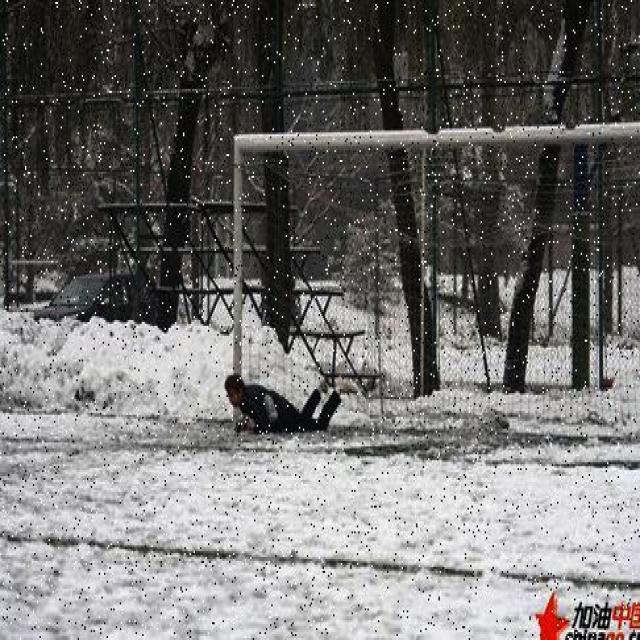fall: (221, 373, 348, 433)
